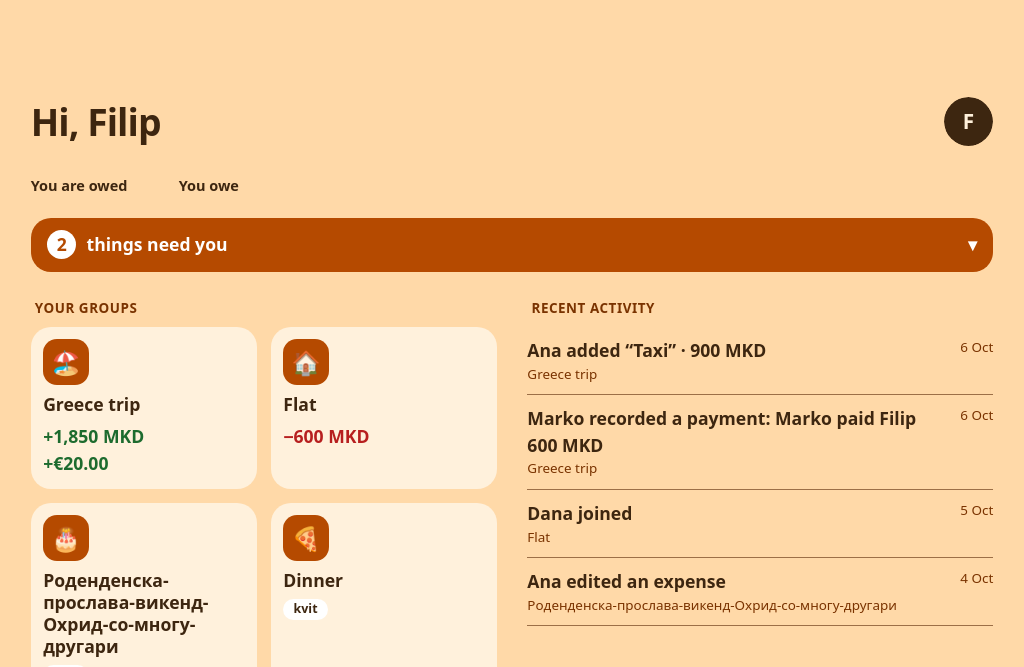
Test: answering a payment card from the home screen › keeps the other card and lowers the number in the circle to 1
This screenshot has width=1024, height=667.
Expected: the heading "Your groups" is shown, top-left (35, 299), bottom-right (137, 317)
What coordinates should you click on to do the following:
click the button "2 things need you ▾"
I would click on:
 (157, 244)
Its box is top-left (31, 218), bottom-right (993, 272).
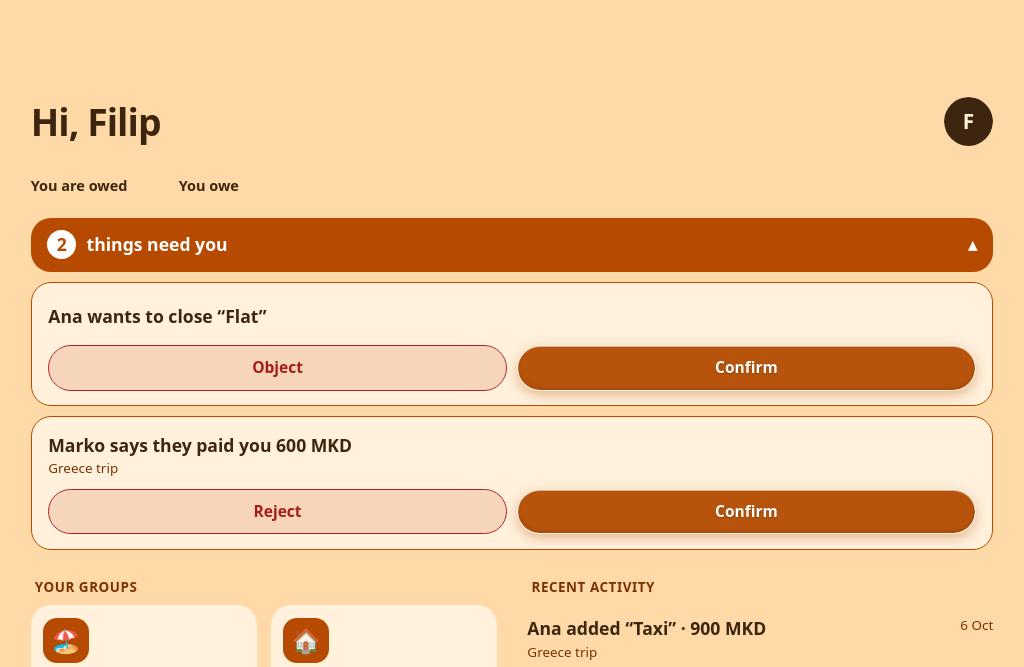
What coordinates should you click on to do the following:
click the button "Confirm" below "Marko says they paid you 600 MKD"
I would click on:
 (746, 512)
Its box is top-left (517, 489), bottom-right (976, 534).
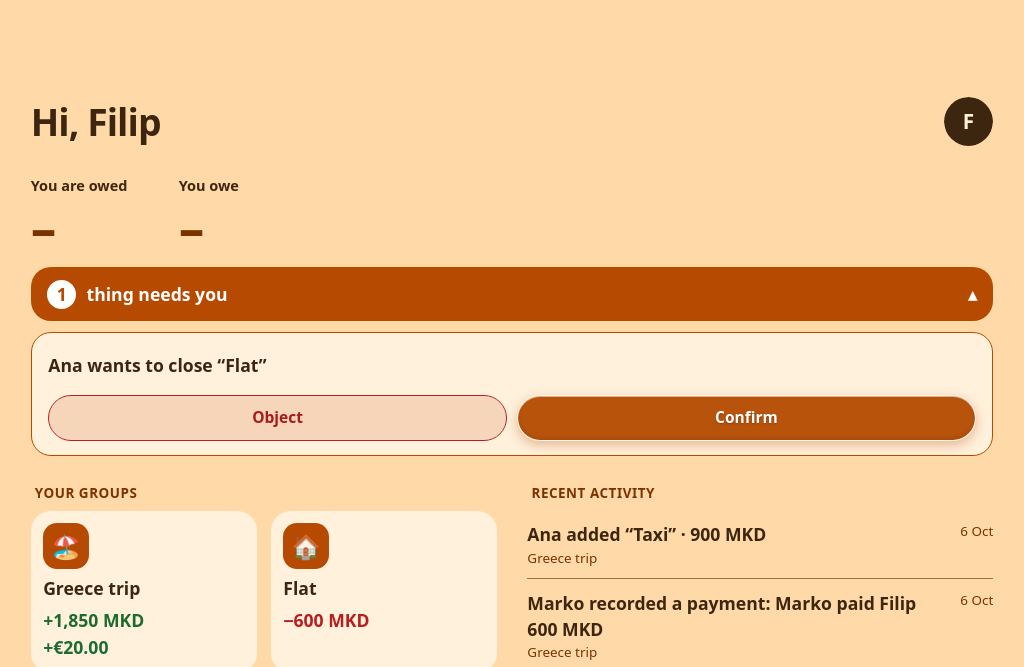
Expected: the text "1" is shown, top-left (47, 280), bottom-right (76, 309)
Expected: the text "thing needs you" is shown, top-left (87, 282), bottom-right (228, 306)
